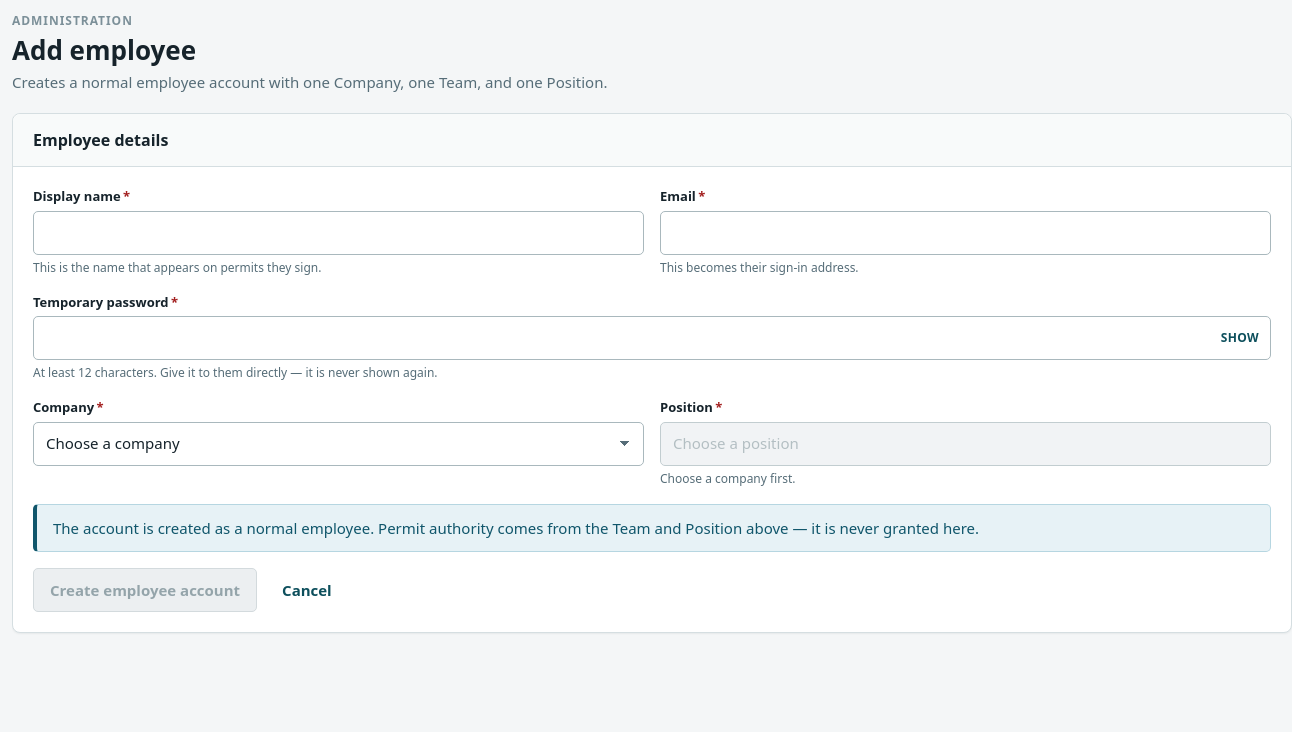
Scenario: E-SET: Company, Team and Position are three separate questions › asks for a Team once E-SET is chosen
Select "E-SET" in the dropdown labelled "Company*" at (338, 444), box 33,422 -> 644,466
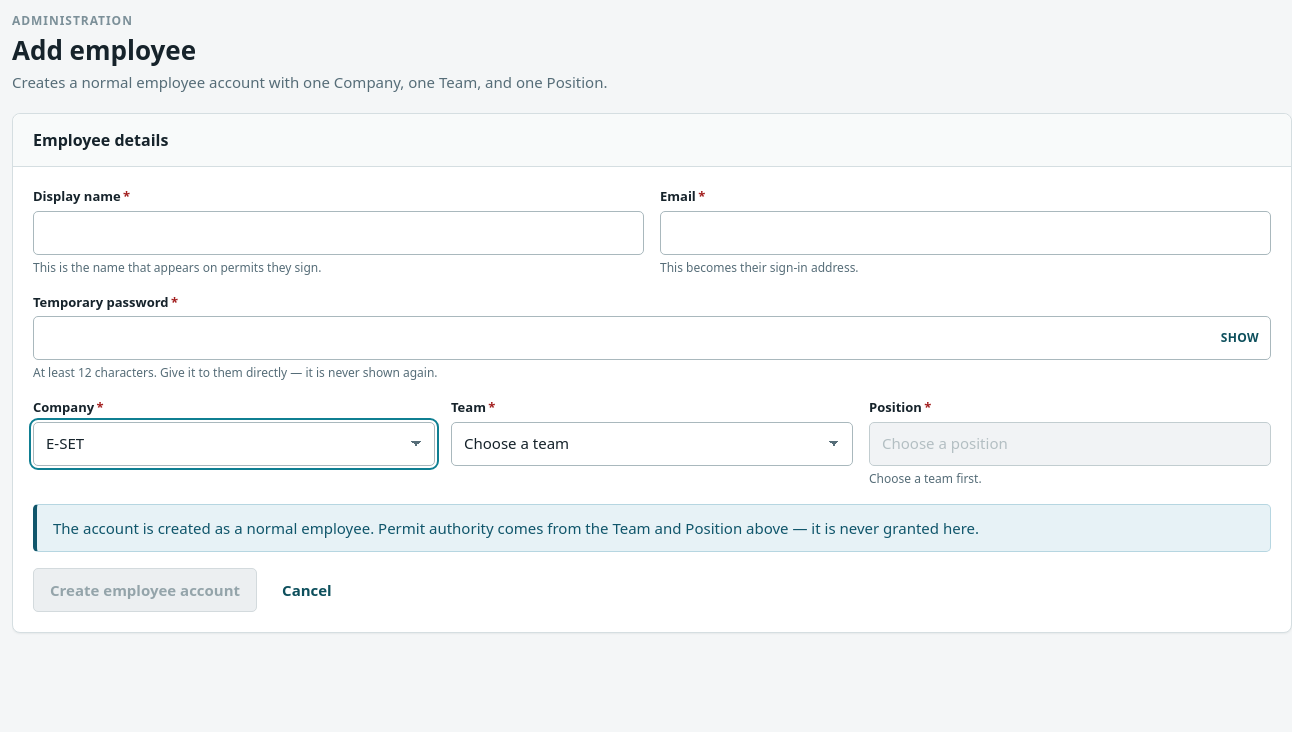
expect the dropdown labelled "Team*" is shown: met, box 451,422 -> 853,466
